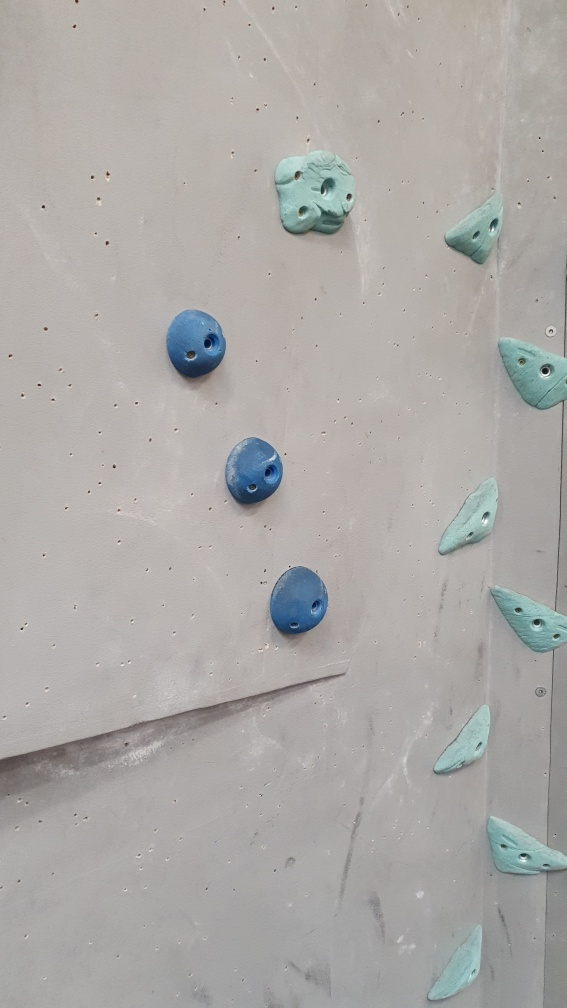Crimp: (478, 807, 567, 884), (483, 577, 567, 656), (424, 701, 501, 781), (496, 335, 567, 418), (437, 189, 509, 266), (424, 921, 488, 1002), (437, 478, 504, 553)
Sloper: (159, 304, 233, 379), (260, 564, 333, 639), (219, 432, 286, 510)
